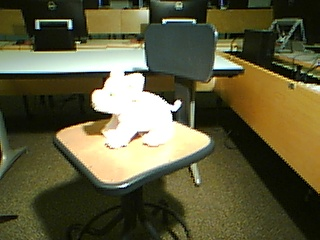piggy: (90, 66, 183, 151)
